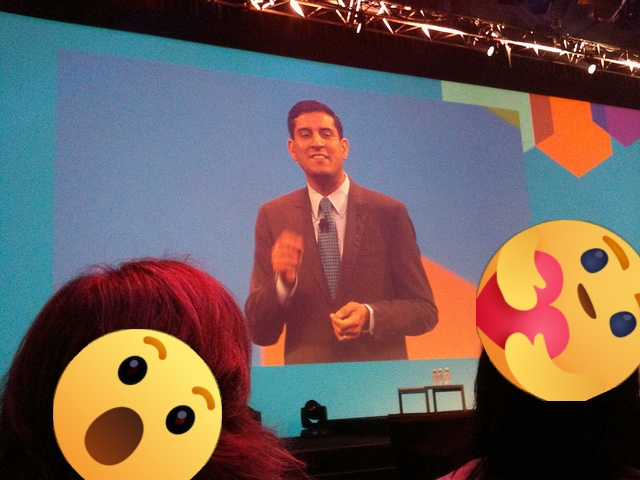care: (476, 220, 640, 401)
wow: (53, 329, 222, 480)
